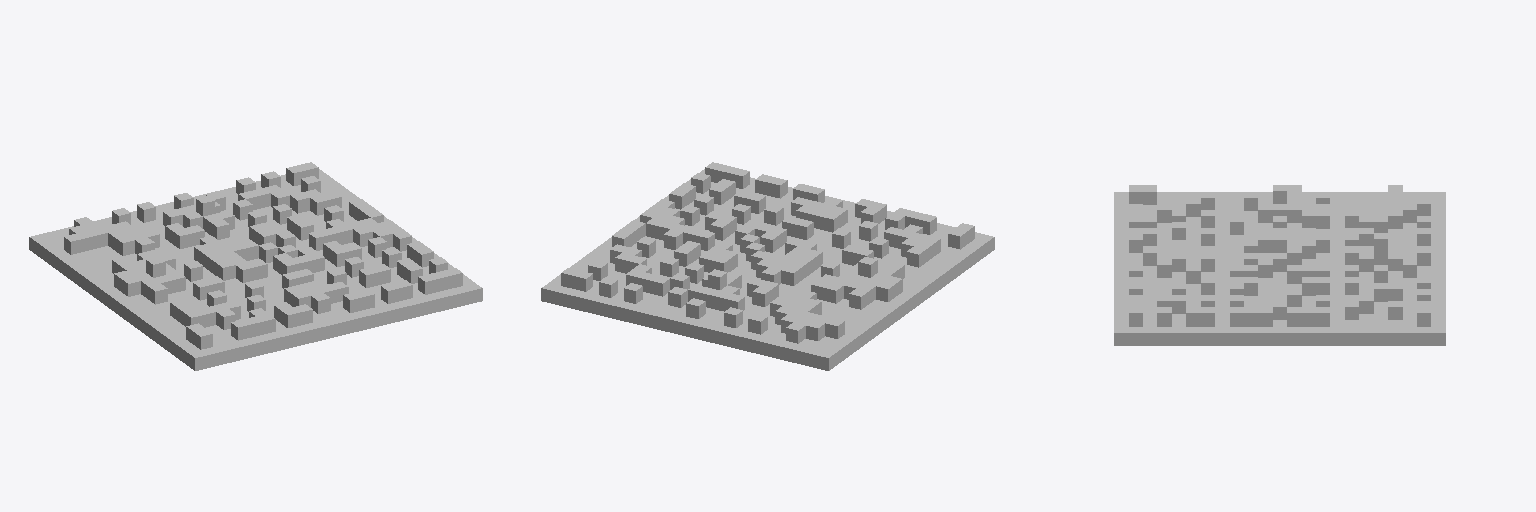
The model's file is Cave Tile 2.obj.
The picture shows the model from 3 angles: view 1: azimuth 30°, elevation 25°; view 2: azimuth 150°, elevation 25°; view 3: azimuth 270°, elevation 25°; orthographic projection.
Visible parts, largest first — view 1: object 1; view 2: object 1; view 3: object 1.
Part boxes in pixels (bbox=[...]): object 1: bbox=[29, 162, 482, 370]; object 1: bbox=[541, 162, 994, 370]; object 1: bbox=[1114, 185, 1445, 345].
Bounding box in the file's own units: 2.3 × 0.3 × 2.3.